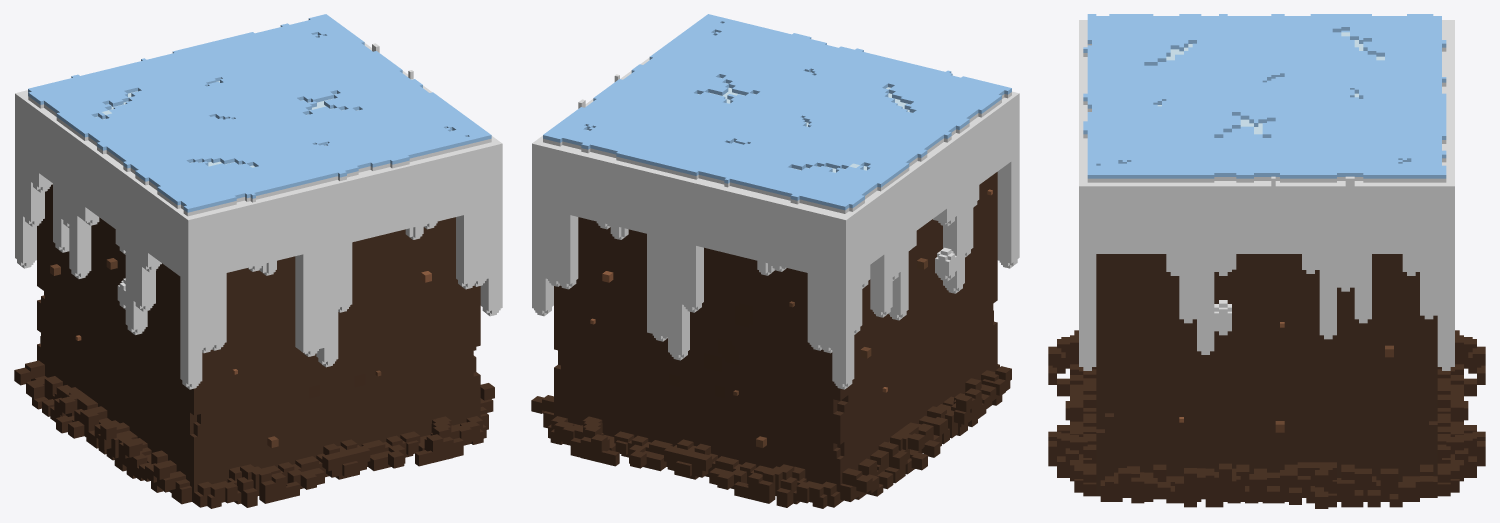
File: groundIceShattered.obj
The picture shows the model from 3 angles, left to right: view 1: azimuth 30°, elevation 25°; view 2: azimuth 150°, elevation 25°; view 3: azimuth 270°, elevation 25°; orthographic projection. The views are drawn at different scales.
Bounding box in the file's own units: 10 × 8.2 × 10.
1 material, 1 textured.
